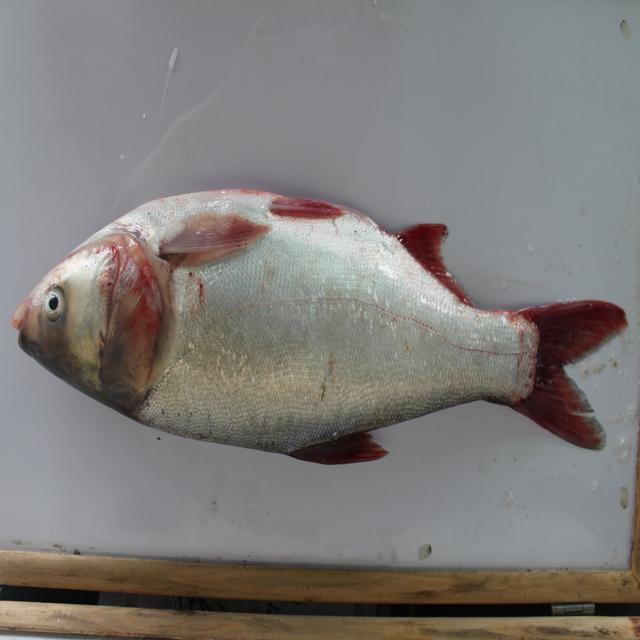SilverCarp: (22, 195, 626, 463)
